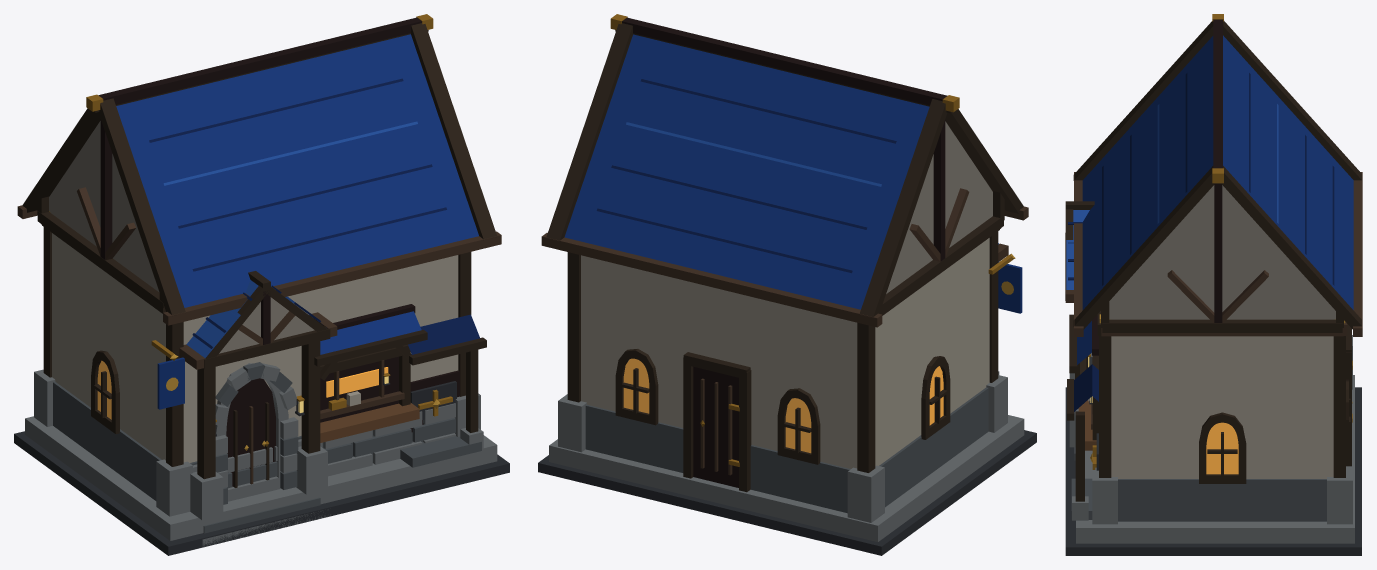
The model's file is eastbrook_bank.glb.
3 renders of one model, left to right at view 1: azimuth 30°, elevation 25°; view 2: azimuth 150°, elevation 25°; view 3: azimuth 270°, elevation 25°, orthographic. The views are drawn at different scales.
Visible parts, largest first — view 1: EastbrookBank_TownOpaque, EastbrookBank_TownEmissive; view 2: EastbrookBank_TownOpaque, EastbrookBank_TownEmissive; view 3: EastbrookBank_TownOpaque, EastbrookBank_TownEmissive.
Part boxes in pixels (left/top/right/bottom): EastbrookBank_TownOpaque: left=14, top=14, right=509, bottom=555; EastbrookBank_TownEmissive: left=97, top=360, right=388, bottom=419; EastbrookBank_TownOpaque: left=538, top=14, right=1036, bottom=555; EastbrookBank_TownEmissive: left=623, top=358, right=943, bottom=453; EastbrookBank_TownOpaque: left=1065, top=14, right=1362, bottom=555; EastbrookBank_TownEmissive: left=1088, top=357, right=1238, bottom=474.
Size of the model in its own units: 7 by 7.8 by 5.5.
